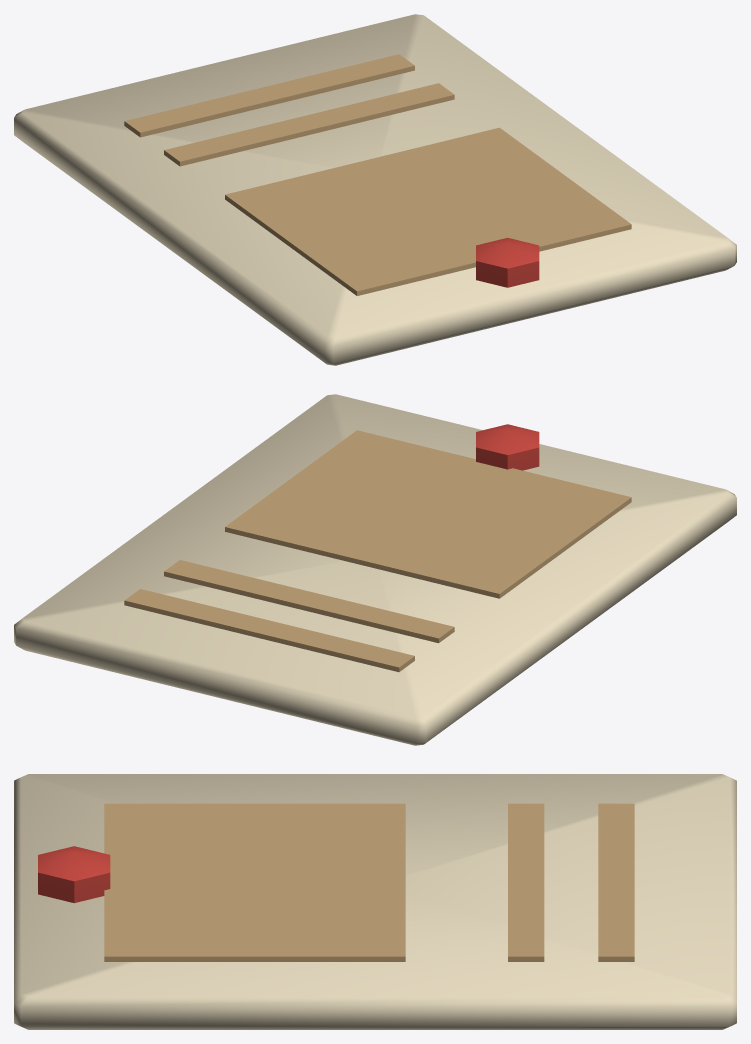
Rendered from recipe_card.glb.
3 renders of one model, top to bottom at view 1: azimuth 30°, elevation 25°; view 2: azimuth 150°, elevation 25°; view 3: azimuth 270°, elevation 25°, orthographic. The views are drawn at different scales.
Visible parts, largest first — view 1: recipe_card; view 2: recipe_card; view 3: recipe_card.
Boxes of the visible parts, x1=… form: recipe_card: x1=14, y1=14, x2=736, y2=365; recipe_card: x1=14, y1=394, x2=736, y2=745; recipe_card: x1=14, y1=774, x2=736, y2=1029.
Size of the model in its own units: 0.09 by 0.012 by 0.12.
